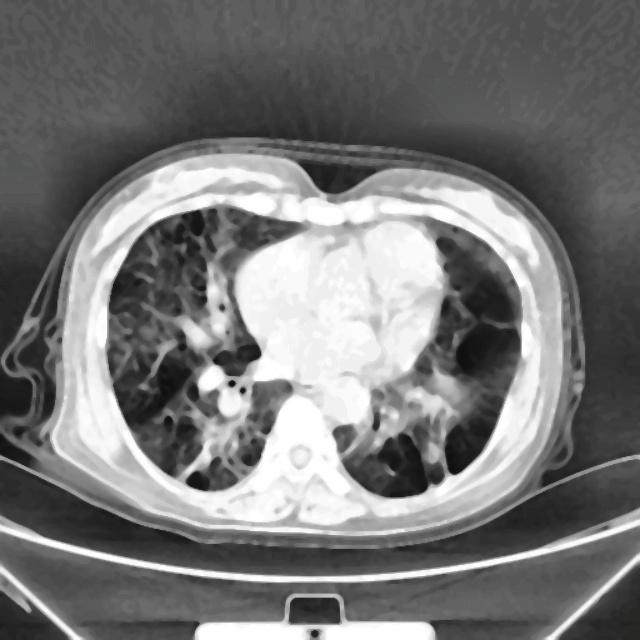covid: (3, 136, 587, 548)
